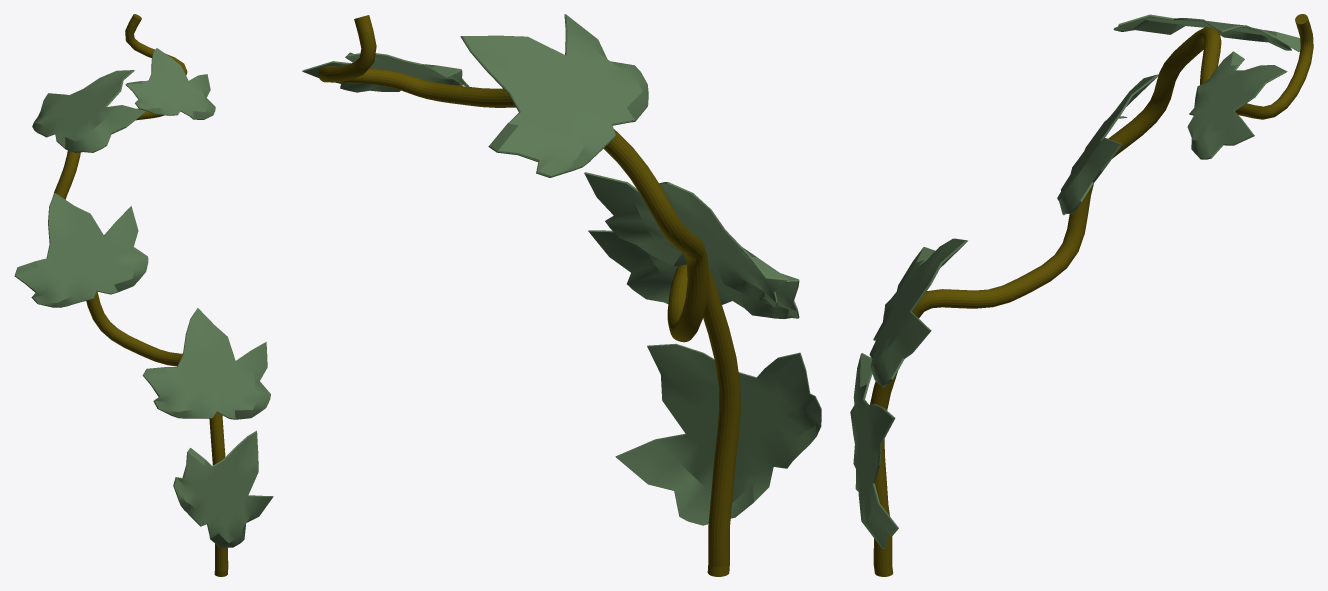
File: Vineswithoutcombination.fbx
3 views of the same model, side by side, from view 1: azimuth 30°, elevation 25°; view 2: azimuth 150°, elevation 25°; view 3: azimuth 270°, elevation 25° (orthographic). The views are drawn at different scales.
Visible parts, largest first — view 1: pCube3, pCube2, pCube5, pCube4, pCylinder12, pCube6; view 2: pCube5, pCube4, pCylinder12, pCube3, pCube2, pCube6; view 3: pCylinder12, pCube6, pCube2, pCube5, pCube3, pCube4.
Boxes of the visible parts, bbox=[...] form: pCube3: bbox=[14, 192, 148, 307]; pCube2: bbox=[142, 308, 270, 419]; pCube5: bbox=[173, 430, 273, 547]; pCube4: bbox=[32, 70, 145, 152]; pCylinder12: bbox=[53, 14, 228, 576]; pCube6: bbox=[125, 48, 215, 119]; pCube5: bbox=[615, 343, 821, 525]; pCube4: bbox=[460, 14, 648, 177]; pCylinder12: bbox=[318, 15, 740, 576]; pCube3: bbox=[584, 172, 788, 307]; pCube2: bbox=[588, 230, 799, 318]; pCube6: bbox=[302, 52, 469, 92]; pCylinder12: bbox=[870, 14, 1313, 576]; pCube6: bbox=[1187, 51, 1287, 159]; pCube2: bbox=[869, 238, 967, 387]; pCube5: bbox=[850, 353, 898, 548]; pCube3: bbox=[1057, 74, 1158, 215]; pCube4: bbox=[1113, 14, 1300, 51].
Size of the model in its own units: 1.55 by 2.62 by 1.83.
